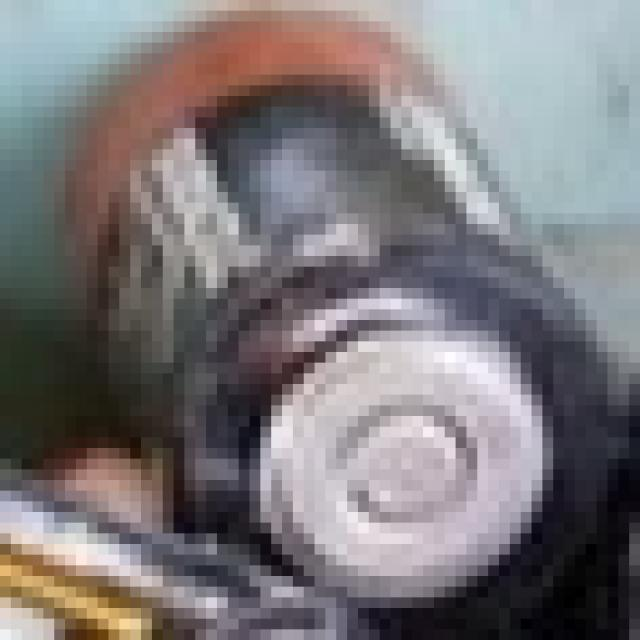battery: (34, 0, 640, 564)
